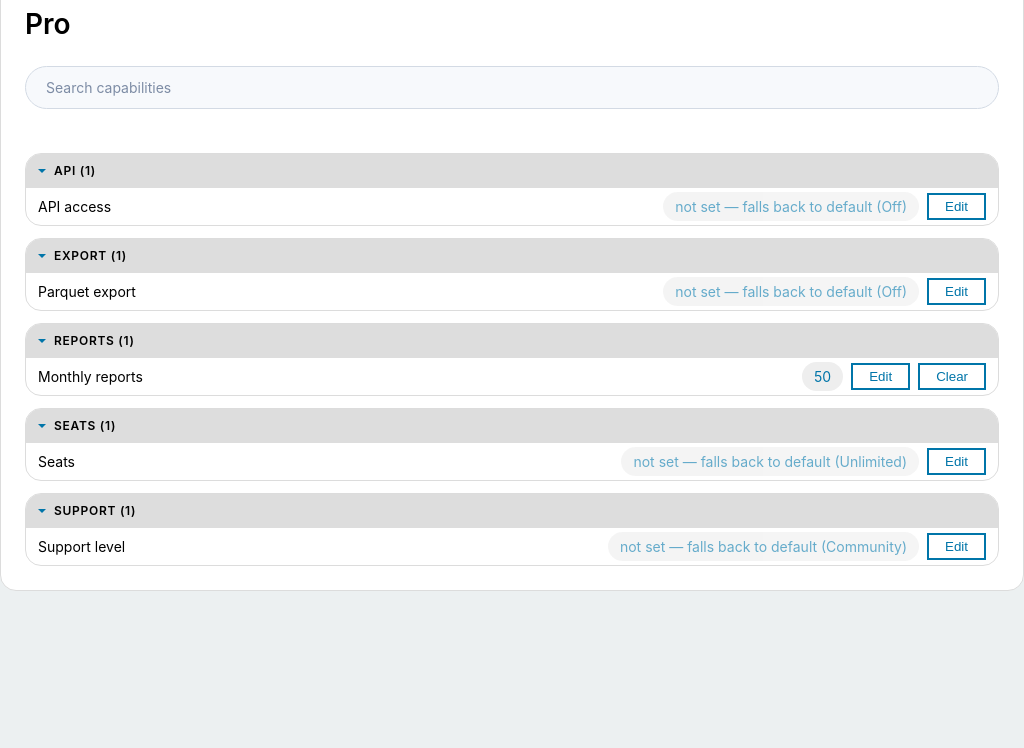
Test: PlanEditorRoute › explains why Save stays disabled when the review carried no preview account
The image size is (1024, 748).
Expected: the text "not set — falls back to default (Off)" in the row of "API access" is shown, top-left (663, 192), bottom-right (919, 221)
Click the button "Edit" in the row of "API access".
click(956, 206)  # box top-left (927, 193), bottom-right (986, 220)
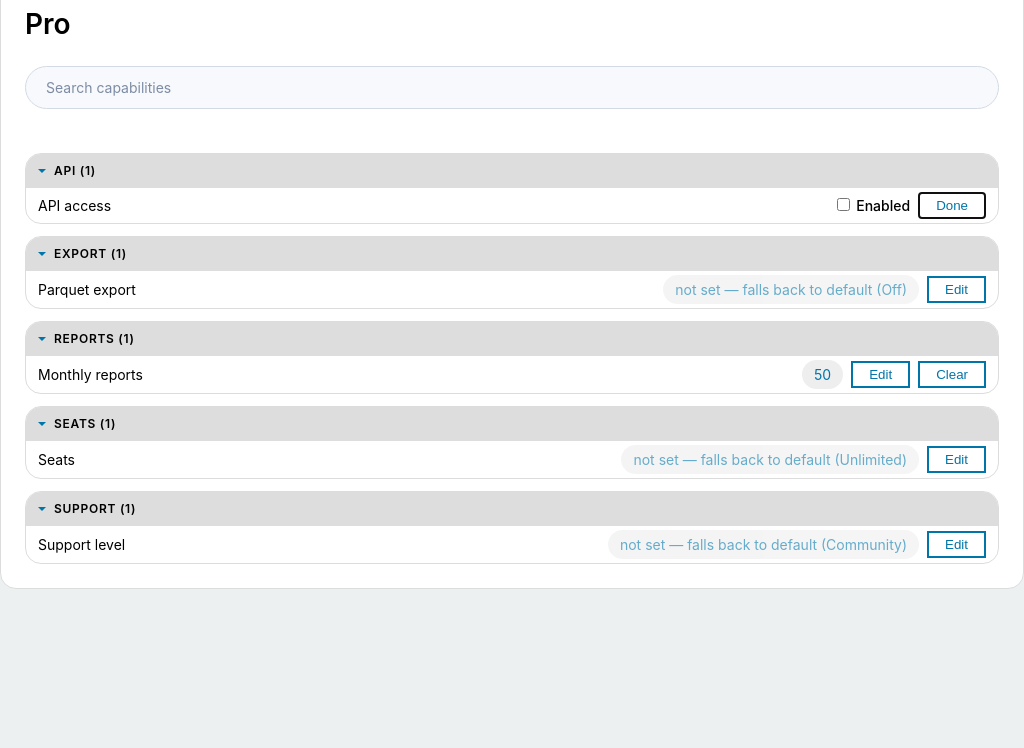
Click the checkbox labelled "Enabled".
click(843, 204)  # box top-left (836, 198), bottom-right (850, 211)
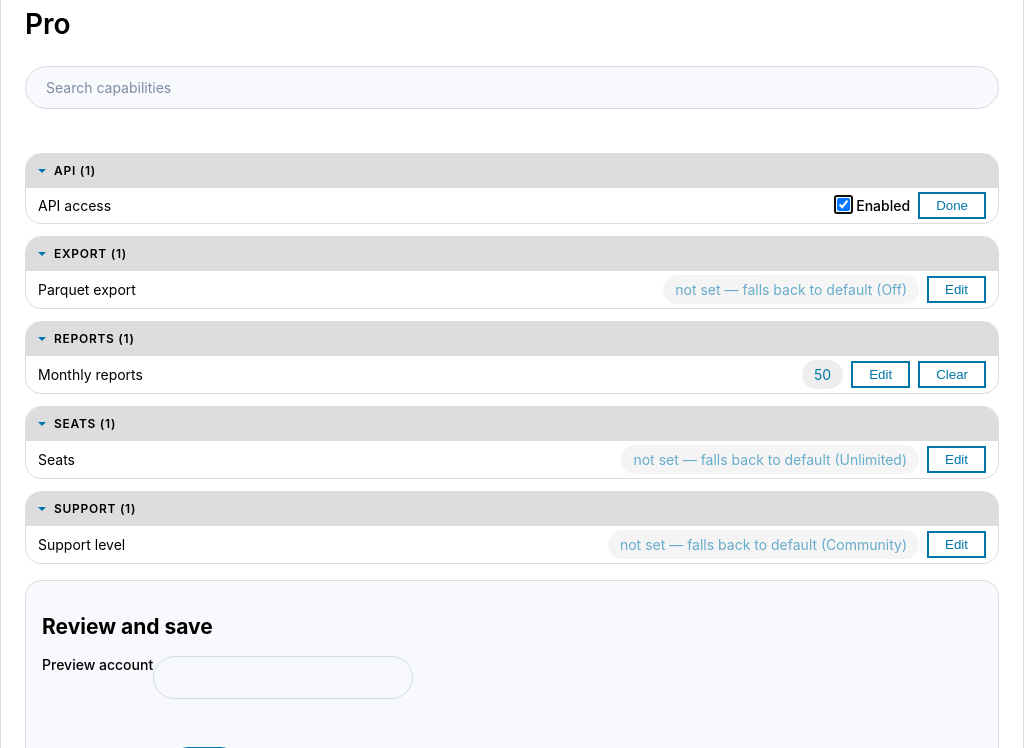
Click the button "Done".
click(952, 205)  # box top-left (918, 192), bottom-right (986, 219)
(page scrolled)
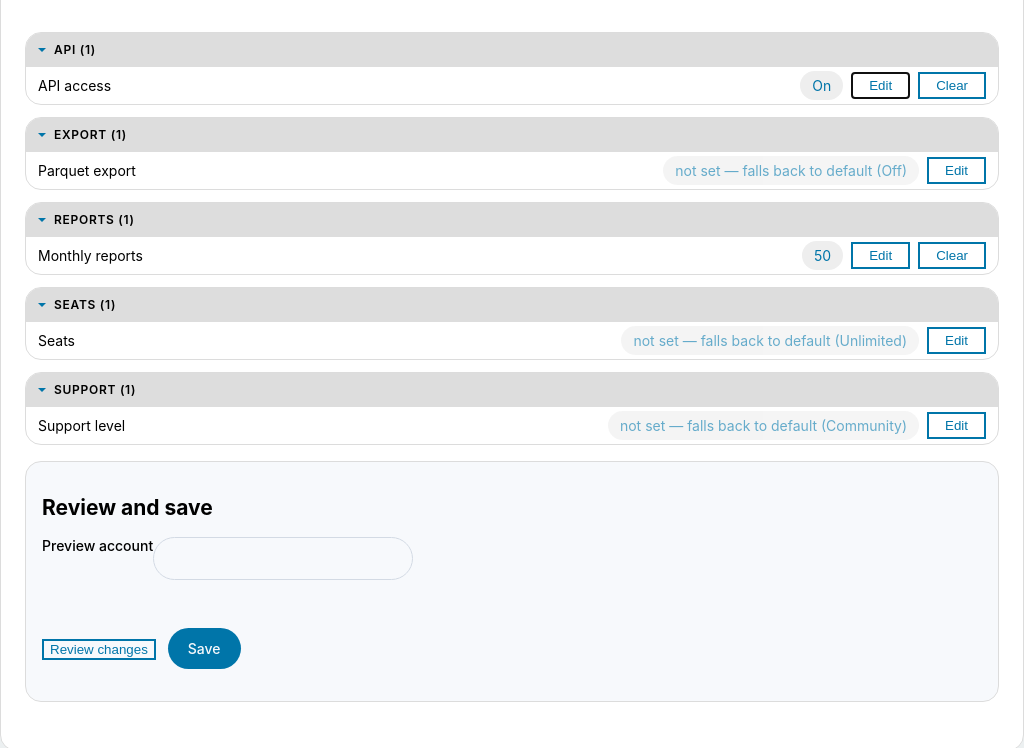
Click the button "Review changes".
click(99, 650)  # box top-left (42, 639), bottom-right (156, 660)
(page scrolled)
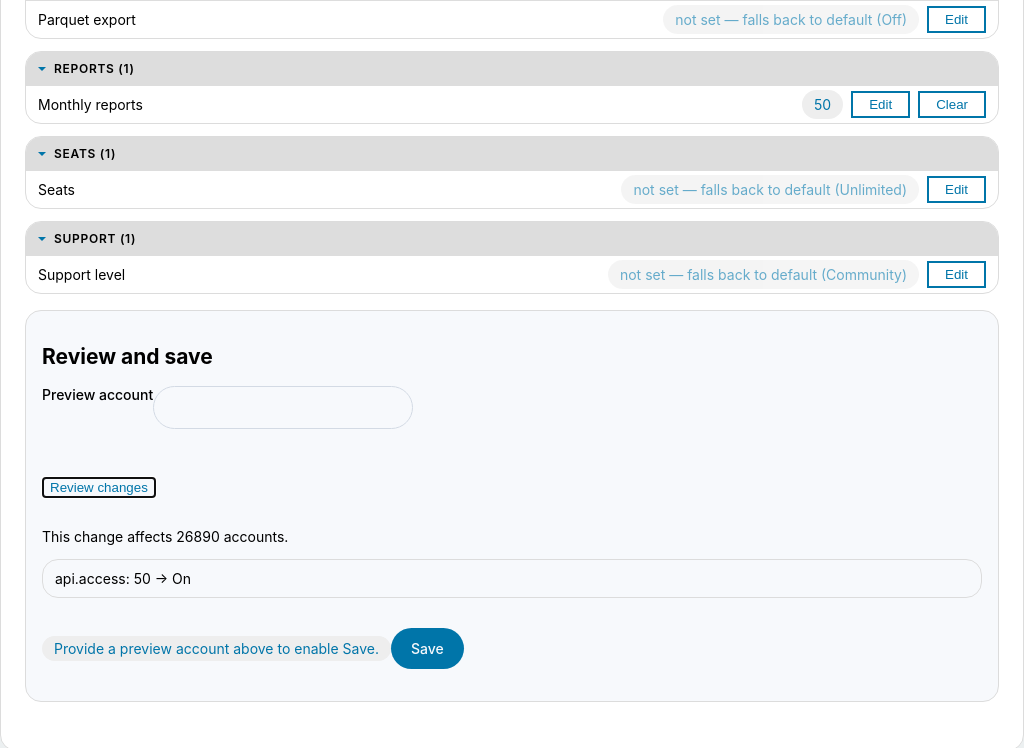
Expected: the button "Save" is disabled, top-left (391, 628), bottom-right (464, 669)
Expected: the text "This change affects 26890 accounts." is shown, top-left (42, 528), bottom-right (288, 545)
Expected: the text "Provide a preview account above to enable Save." is shown, top-left (42, 636), bottom-right (391, 661)
